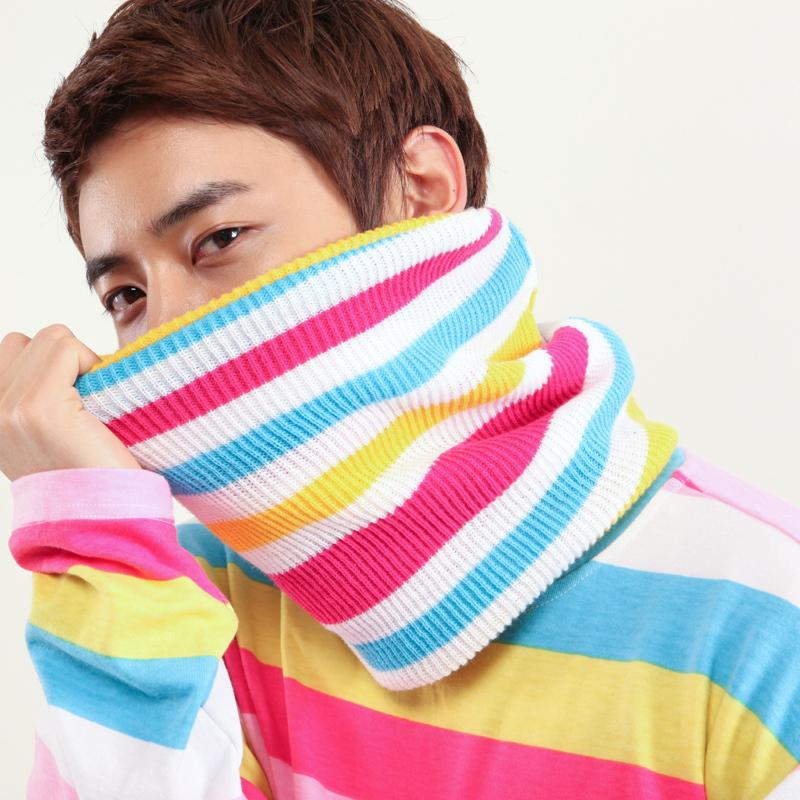WRONG: (74, 163, 374, 463)
